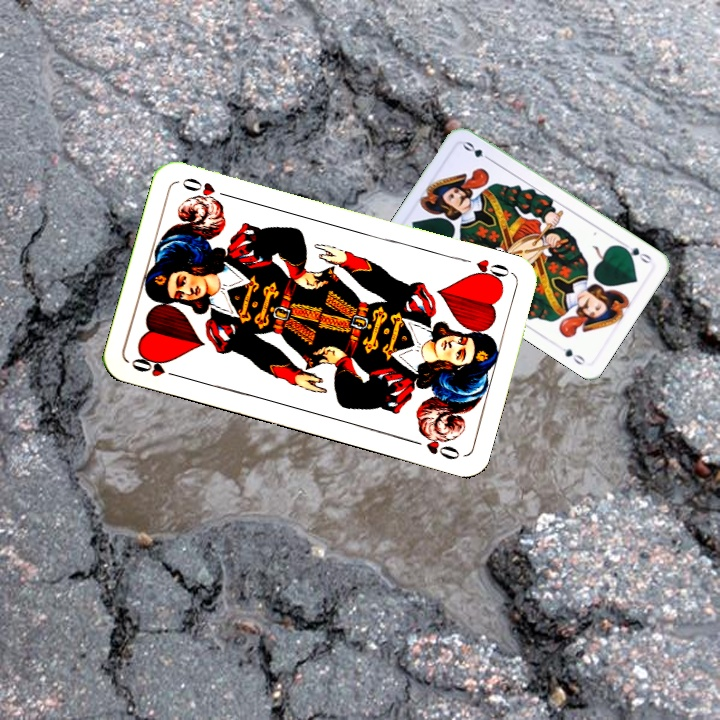GO: (617, 242, 655, 266)
HO: (127, 349, 184, 381), (466, 255, 514, 287)
